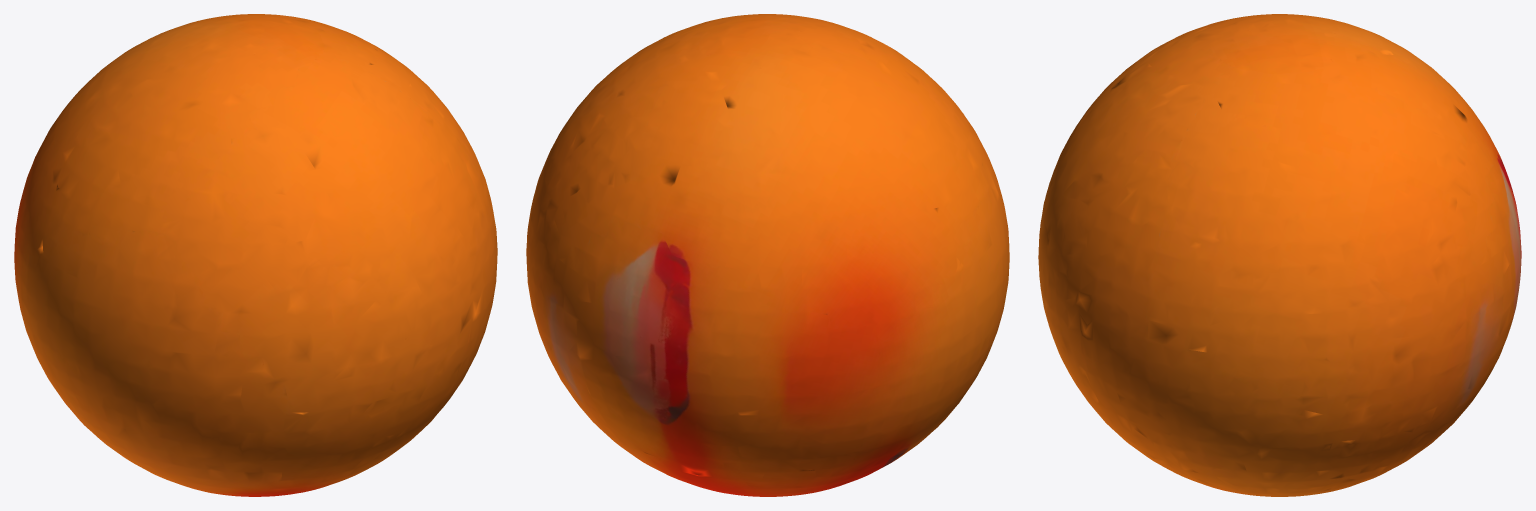
Rendered from obstacle_bouncingball.glb.
3 views of the same model, side by side, from view 1: azimuth 30°, elevation 25°; view 2: azimuth 150°, elevation 25°; view 3: azimuth 270°, elevation 25° (orthographic).
Parts seen in each view (by area): view 1: model; view 2: model; view 3: model.
Part boxes in pixels (x1,y1,x2,y2): model: (14, 14, 497, 496); model: (526, 14, 1009, 496); model: (1038, 14, 1521, 496).
Bounding box in the file's own units: 1.9 × 1.9 × 1.9.
1 material, 1 textured.
